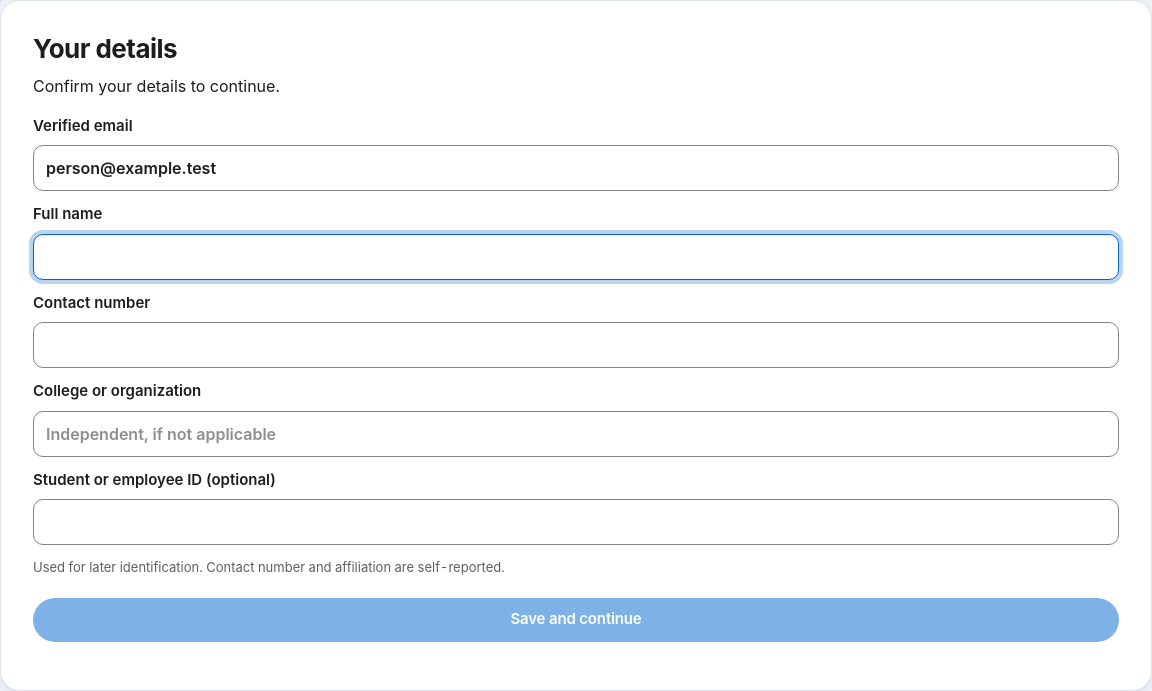
Test: account details form › keeps entered details and blocks continuation when saving fails
Type "Asha Rao" into the field labelled "Full name" at x=576, y=257, box [33, 234, 1119, 280]
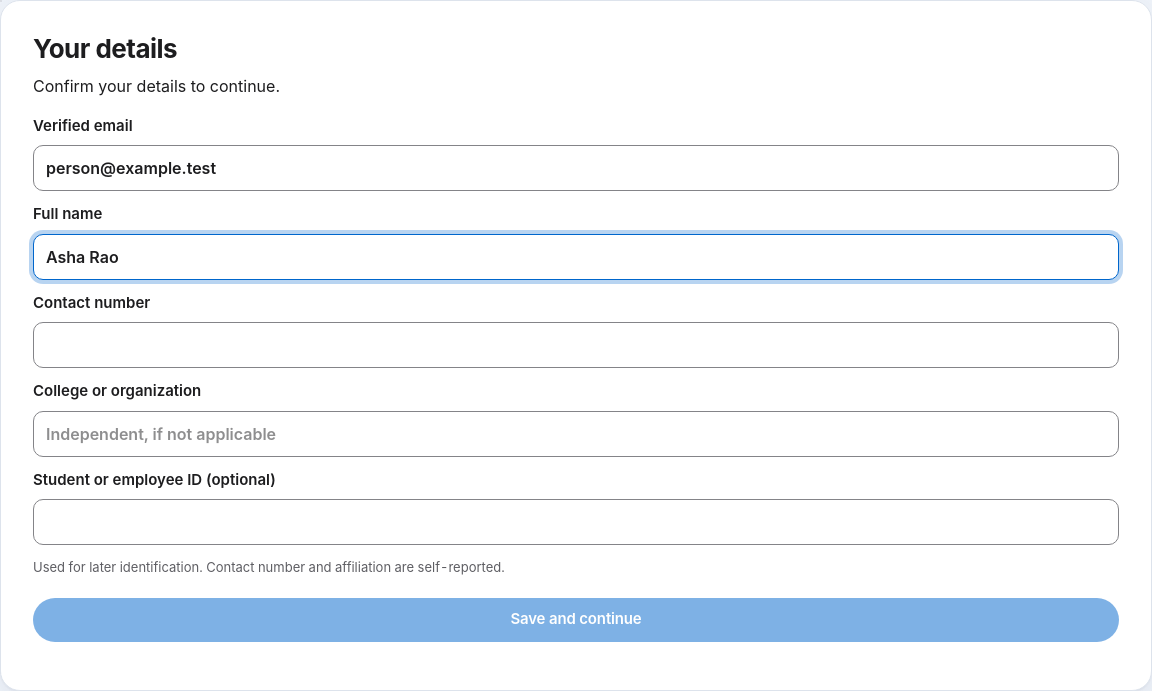
Type "9876543210" into the field labelled "Contact number" at x=576, y=346, box [33, 322, 1119, 368]
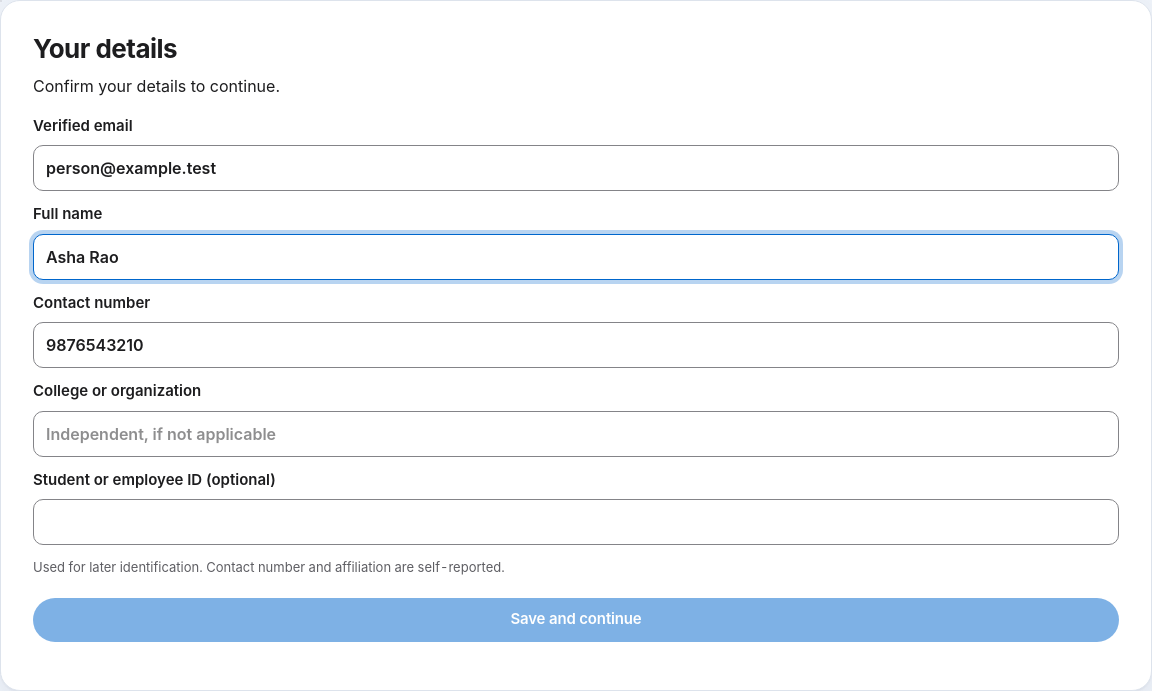
Type "College" into the field labelled "College or organization" at x=576, y=434, box [33, 411, 1119, 457]
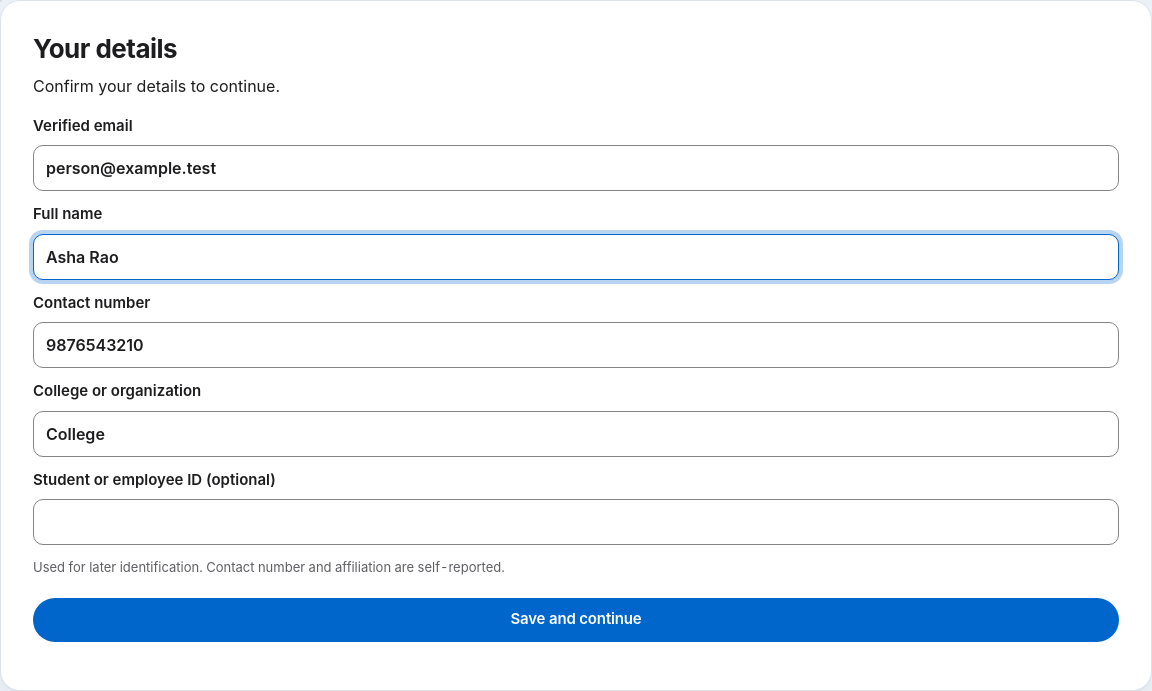
Click the button "Save and continue" at x=576, y=620, box [33, 598, 1119, 642]
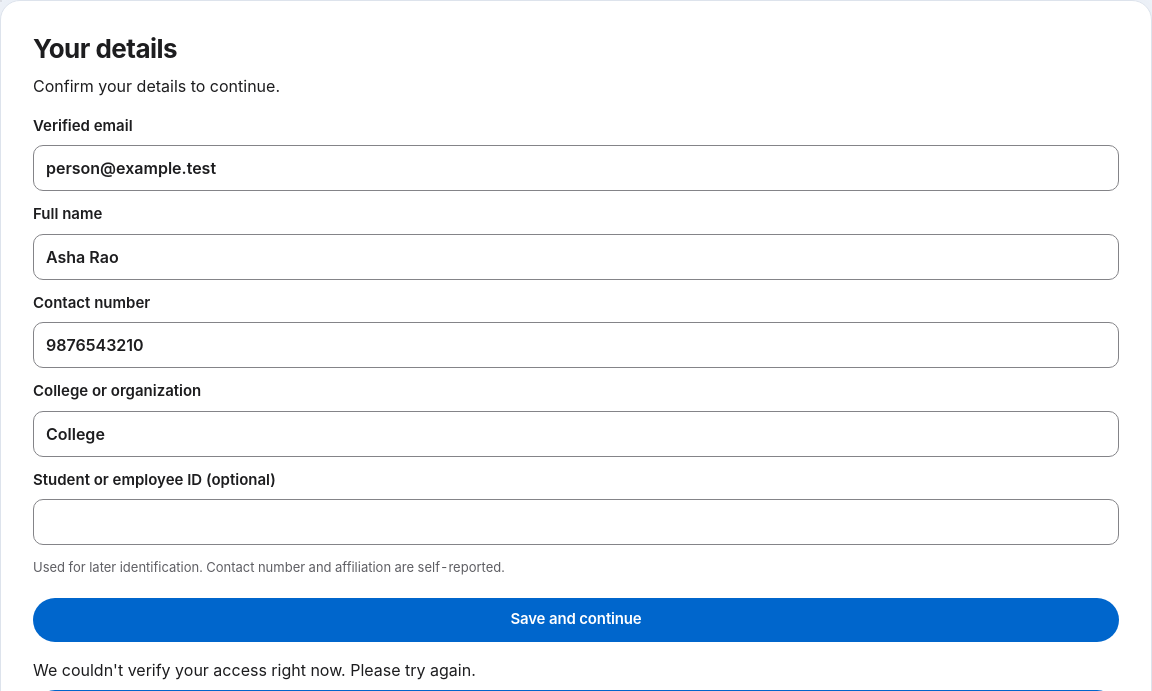
Result: the message "We couldn't verify your access right now. Please try again." is shown at [33, 660, 476, 680]
